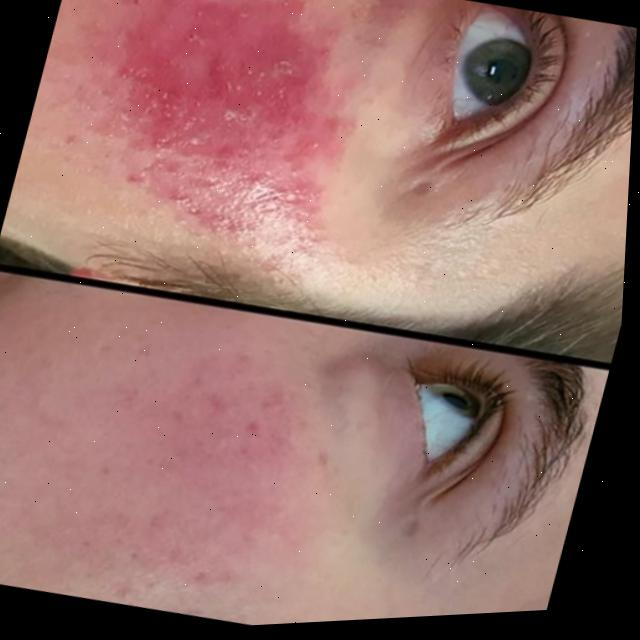Rosacea: (72, 358, 289, 610), (152, 0, 354, 201)
